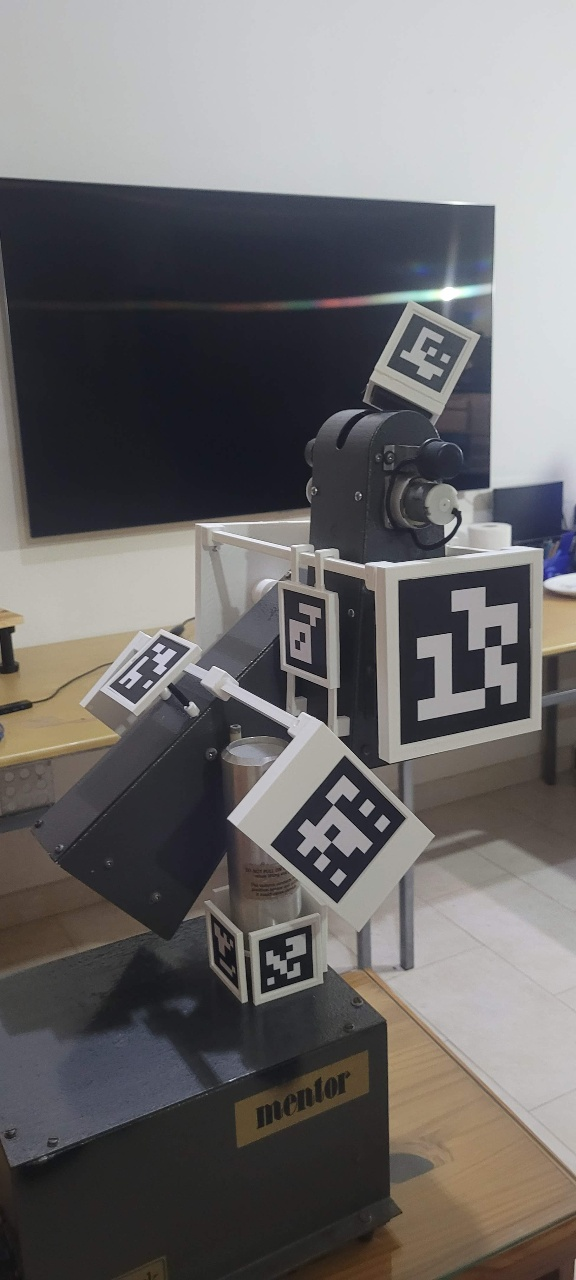Robot: (29, 297, 544, 1008)
